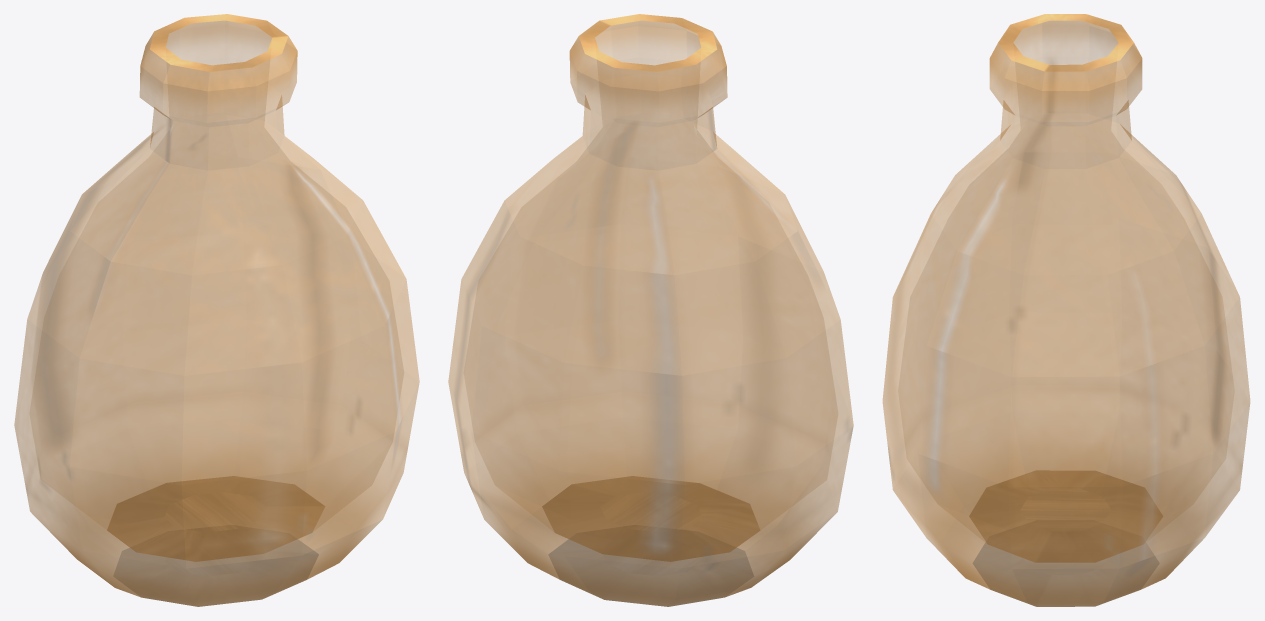
Rendered from Garrafa-Barriguda-Ambar.glb.
3 renders of one model, left to right at view 1: azimuth 30°, elevation 25°; view 2: azimuth 150°, elevation 25°; view 3: azimuth 270°, elevation 25°, orthographic.
Visible parts, largest first — view 1: Barriguda âmbar; view 2: Barriguda âmbar; view 3: Barriguda âmbar.
Boxes of the visible parts, left/top/right/bottom form: Barriguda âmbar: left=14, top=14, right=419, bottom=606; Barriguda âmbar: left=448, top=14, right=853, bottom=606; Barriguda âmbar: left=883, top=14, right=1249, bottom=606.
Size of the model in its own units: 0.1164 by 0.166 by 0.106.
Materials: 1 (1 with a texture image).
